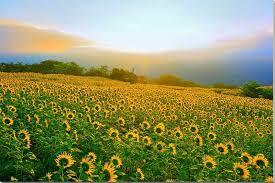flower: (3, 73, 271, 180)
sky: (1, 1, 275, 67)
